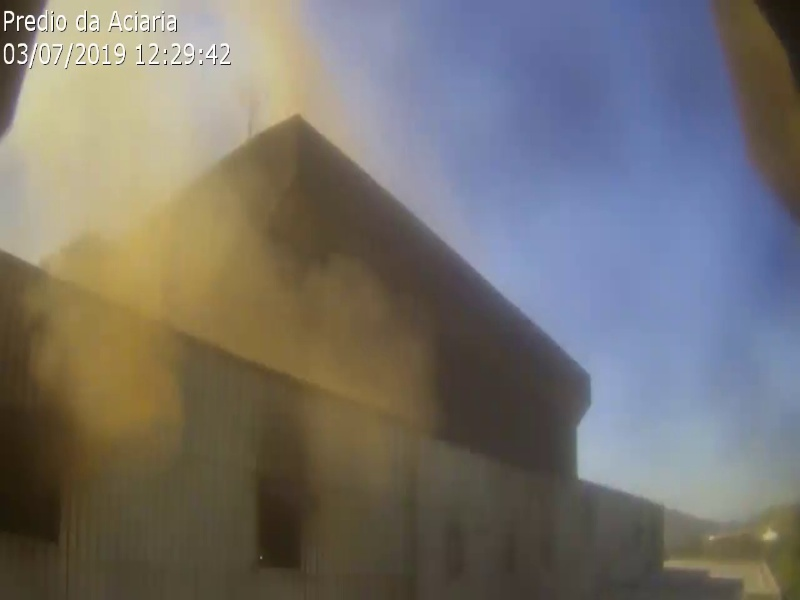Pessimo: (33, 29, 446, 524)
